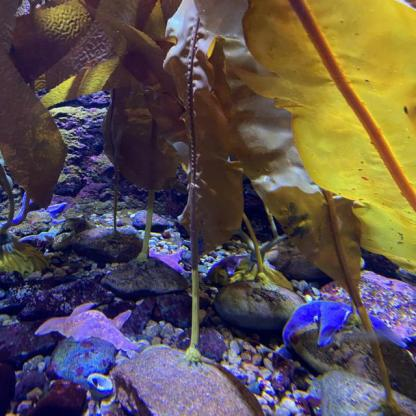starfish: (282, 300, 404, 348), (37, 304, 139, 352), (149, 248, 189, 274), (208, 255, 248, 275)
